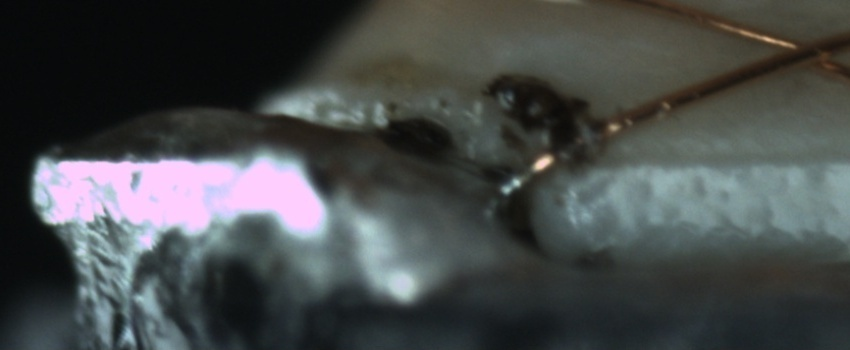CL: (758, 24, 846, 75)
DL: (614, 119, 847, 193)
